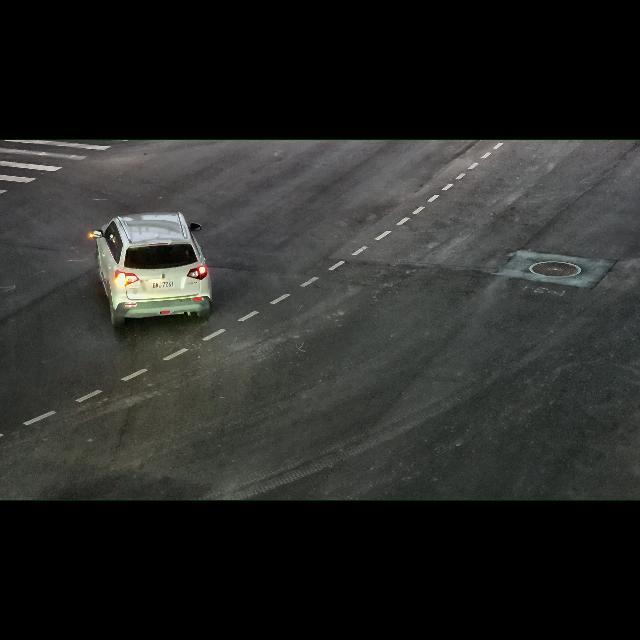car: (85, 206, 218, 334)
license_plate: (152, 280, 175, 289)
luxgen: (160, 272, 166, 280)
